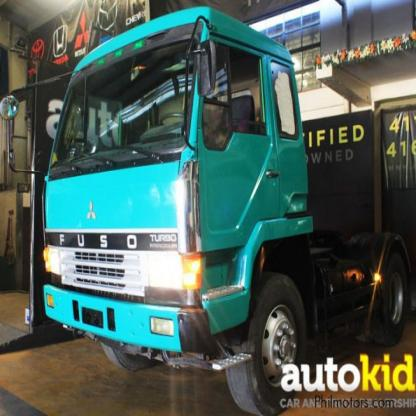truck: (43, 6, 416, 416)
